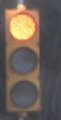Red: (1, 4, 48, 115)
